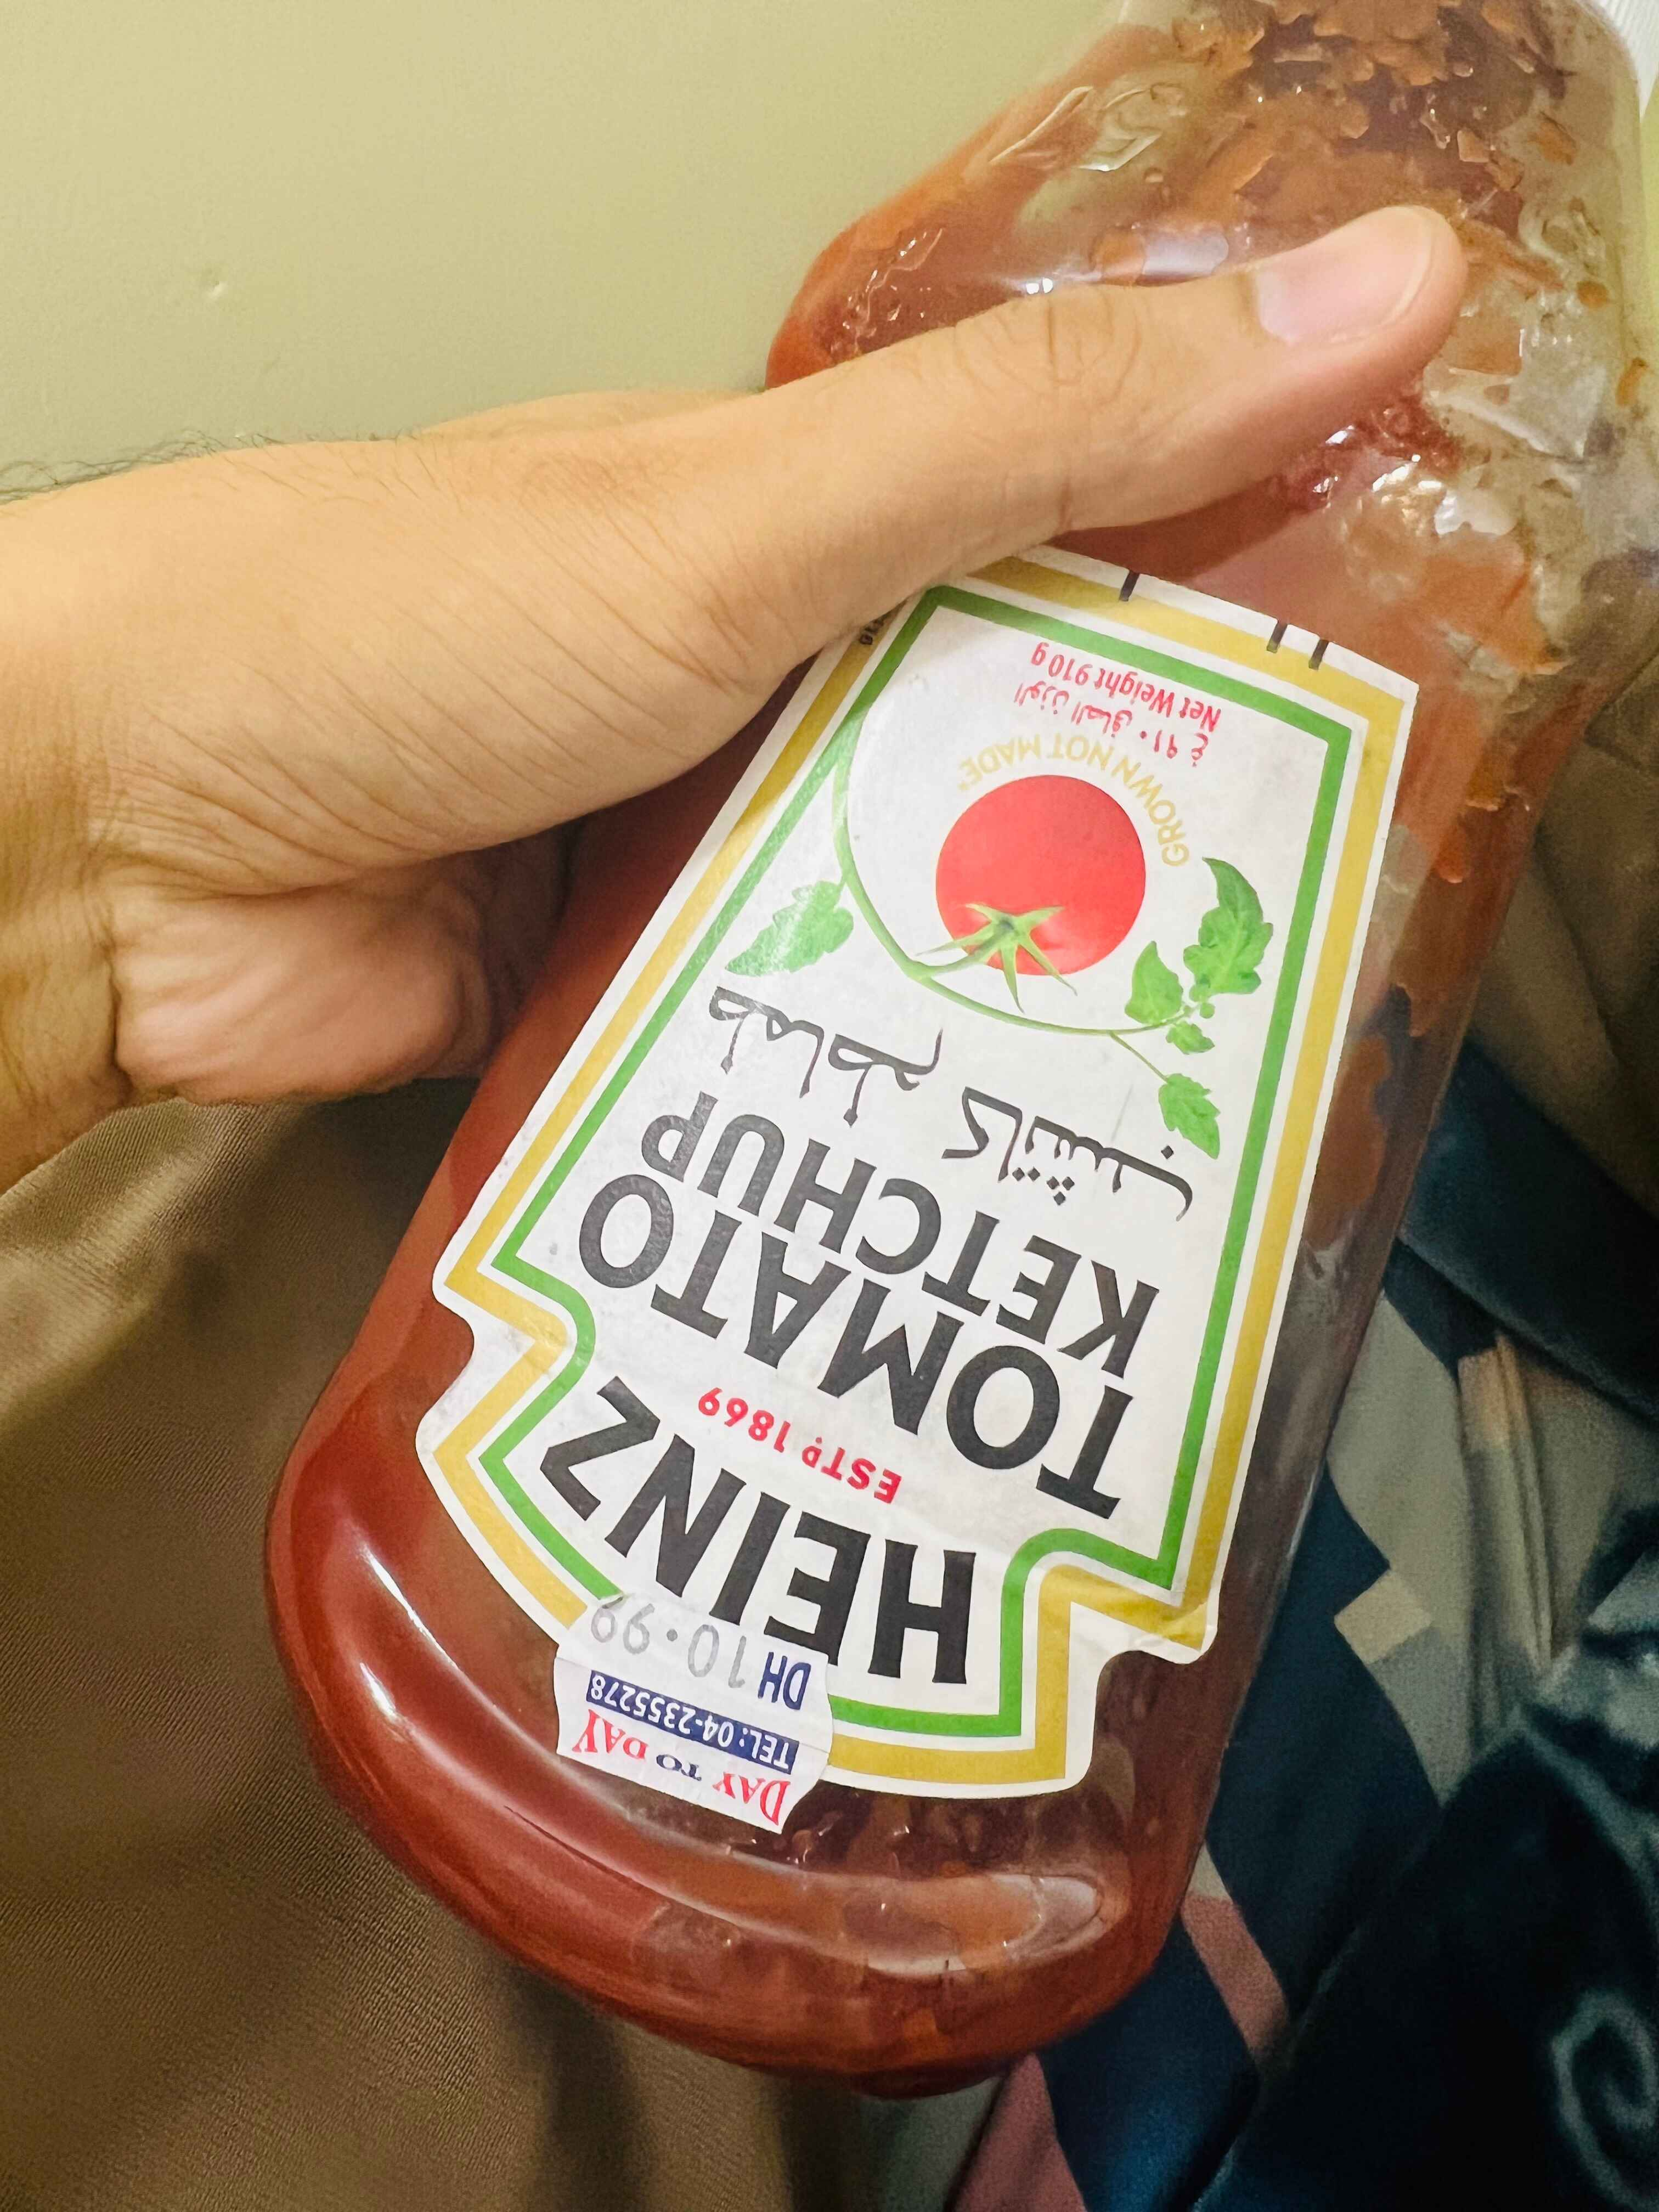PriceTagSmall: (554, 1587, 845, 1843)
